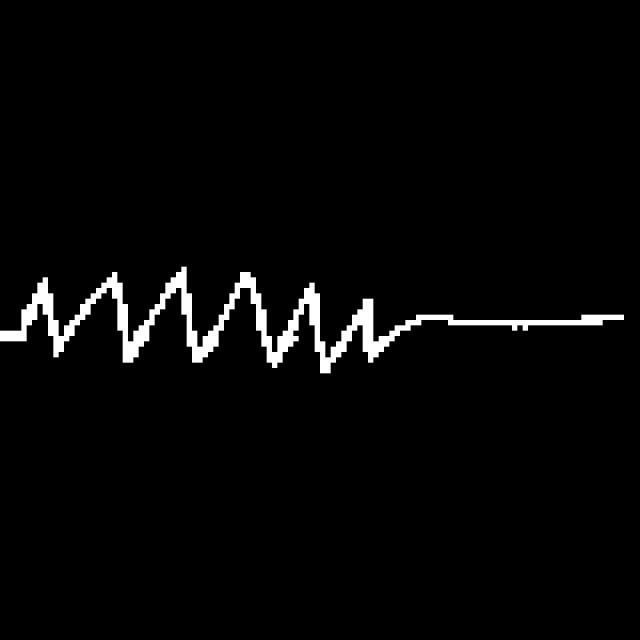resistor: (9, 253, 427, 385)
